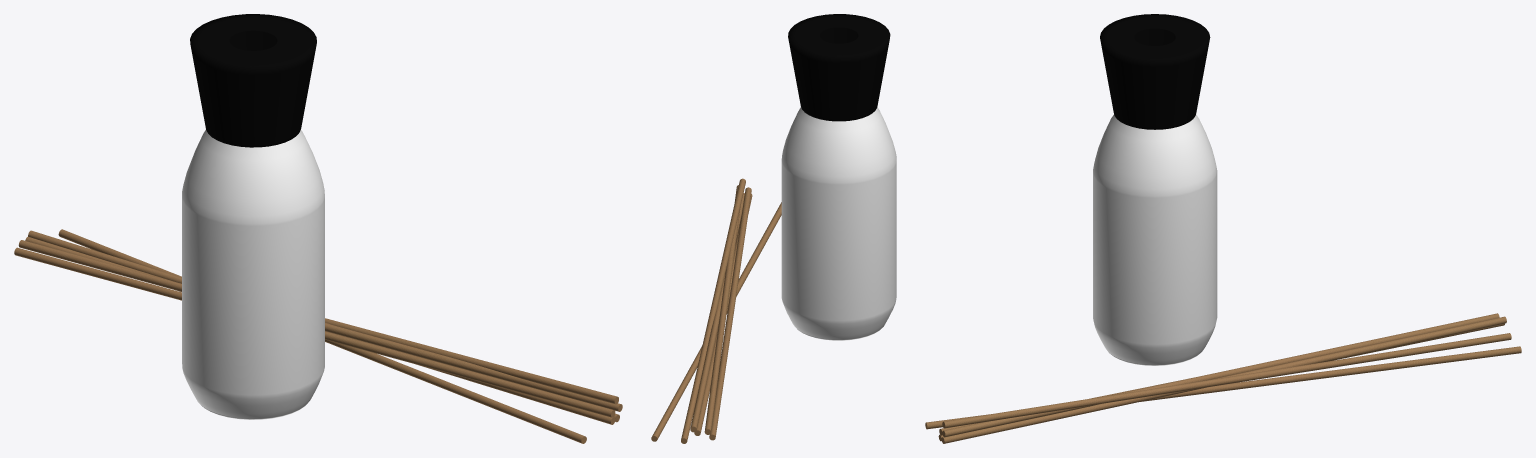
The model's file is profumatore_piccolo.glb.
The picture shows the model from 3 angles, left to right: view 1: azimuth 30°, elevation 25°; view 2: azimuth 150°, elevation 25°; view 3: azimuth 270°, elevation 25°; orthographic projection. The views are drawn at different scales.
Parts seen in each view (by area): view 1: Profumatore, Bastoncini, Tappo; view 2: Profumatore, Tappo, Bastoncini; view 3: Profumatore, Bastoncini, Tappo.
Part boxes in pixels (x1,y1,x2,y2): Profumatore: (182, 130, 324, 419); Bastoncini: (14, 229, 622, 443); Tappo: (190, 14, 316, 147); Profumatore: (781, 107, 896, 340); Tappo: (788, 14, 890, 121); Bastoncini: (651, 178, 781, 443); Profumatore: (1093, 114, 1217, 365); Bastoncini: (925, 313, 1521, 443); Tappo: (1100, 14, 1210, 129).
Bounding box in the file's own units: 11.25 × 12.3 × 21.61.
4 materials, 1 textured.
